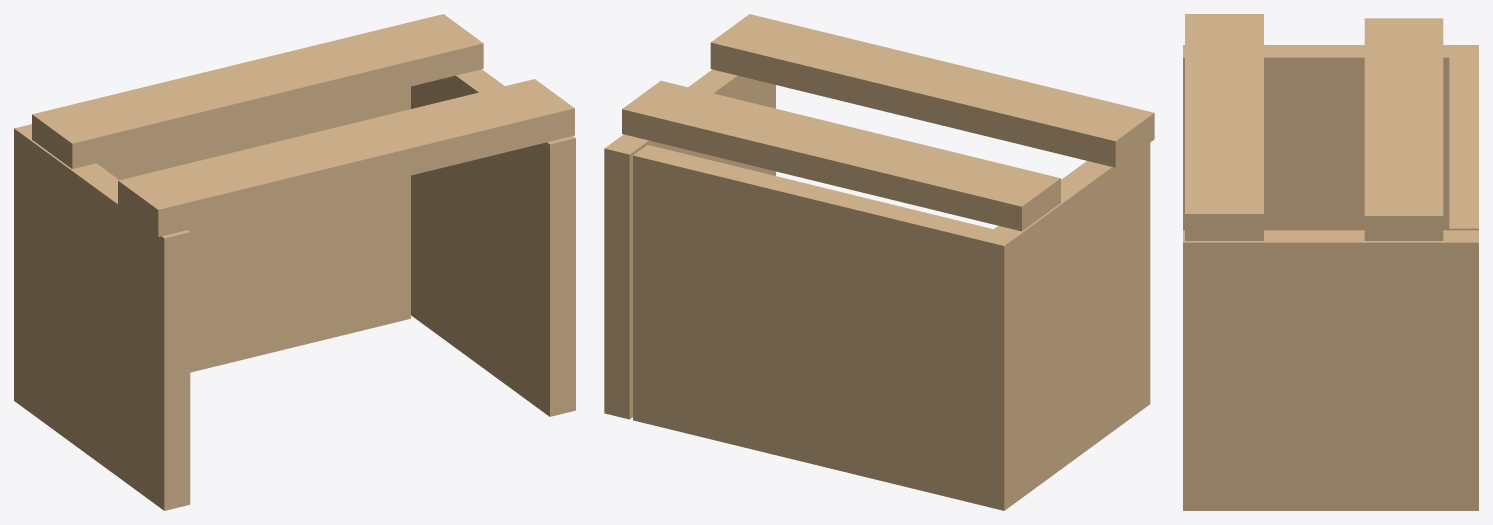
File: tinker.obj
3 views of the same model, side by side, from view 1: azimuth 30°, elevation 25°; view 2: azimuth 150°, elevation 25°; view 3: azimuth 270°, elevation 25° (orthographic). The views are drawn at different scales.
Visible parts, largest first — view 1: obj_0; view 2: obj_0; view 3: obj_0.
Part boxes in pixels (x1,y1,x2,y2): obj_0: (14, 14, 575, 510); obj_0: (604, 14, 1154, 510); obj_0: (1183, 14, 1478, 510).
Bounding box in the file's own units: 240 × 166 × 150.
